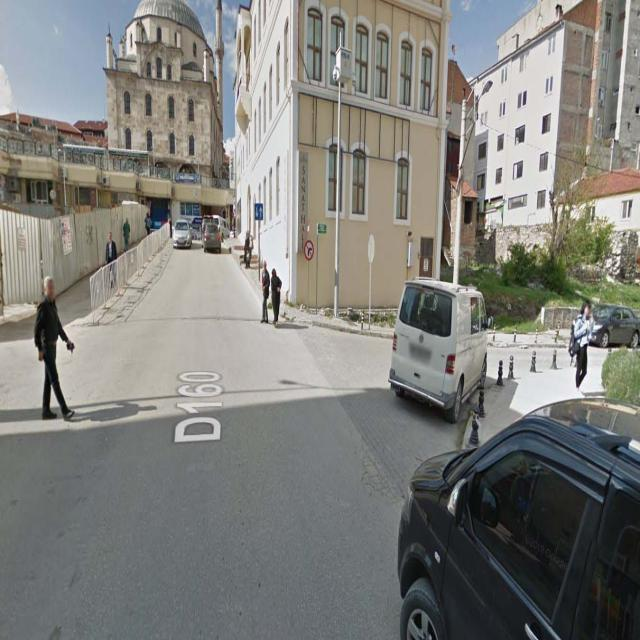sagadonulmez: (304, 241, 314, 260)
